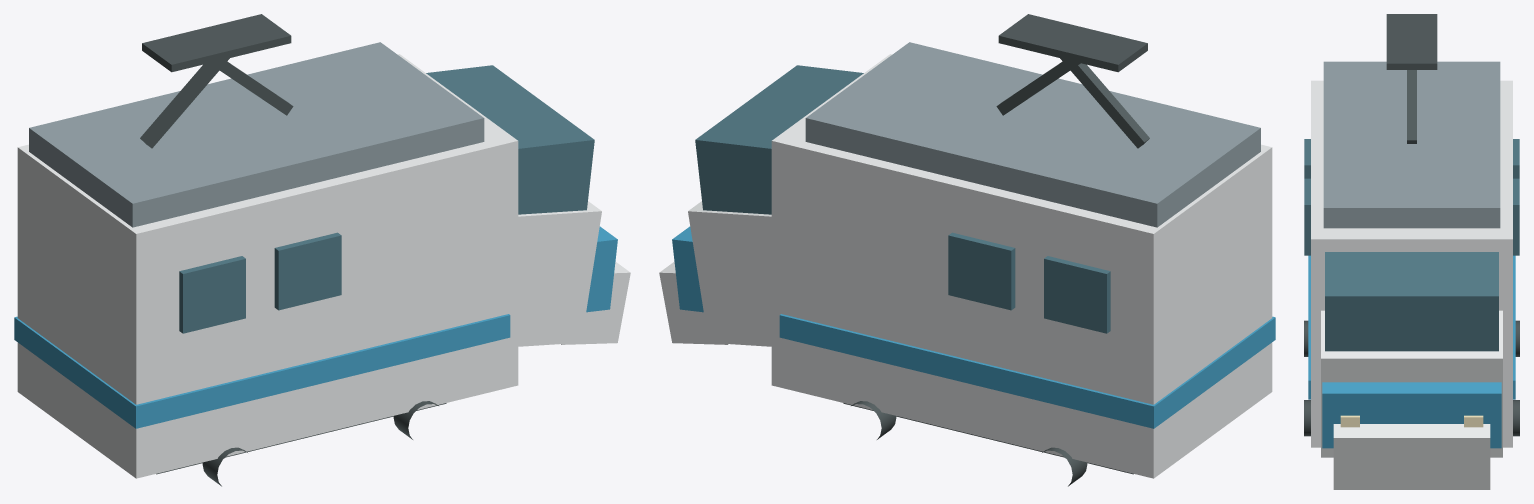
File: comfortjet.glb
3 views of the same model, side by side, from view 1: azimuth 30°, elevation 25°; view 2: azimuth 150°, elevation 25°; view 3: azimuth 270°, elevation 25° (orthographic). The views are drawn at different scales.
Parts seen in each view (by area): view 1: body_shell, roof, livery_stripe, vectron_dark_brow, cab_nose_lower, pantograph_head_-0.18, window_0.72_1_1, window_0.72_0_1, cab_nose_tip, pantograph_left_-0.18, vectron_livery_face, pantograph_right_-0.18; view 2: body_shell, roof, livery_stripe, vectron_dark_brow, cab_nose_lower, pantograph_head_-0.18, window_0.72_1_0, window_0.72_0_0, cab_nose_tip, pantograph_left_-0.18, vectron_livery_face, pantograph_right_-0.18; view 3: roof, vectron_dark_brow, body_shell, cab_nose_tip, vectron_livery_face, cab_nose_lower, pantograph_head_-0.18, livery_stripe, pantograph_right_-0.18, window_0.72_1_0, window_0.72_1_1, window_0.72_0_0 (+5 smaller).
Boxes of the visible parts, box(x1,y1,x2,y2) form: body_shell: box(17, 54, 518, 478); roof: box(29, 42, 484, 227); livery_stripe: box(14, 314, 510, 428); vectron_dark_brow: box(426, 65, 594, 214); cab_nose_lower: box(518, 201, 601, 346); pantograph_head_-0.18: box(142, 14, 291, 72); window_0.72_1_1: box(274, 232, 341, 310); window_0.72_0_1: box(179, 256, 245, 333); cab_nose_tip: box(561, 261, 630, 344); pantograph_left_-0.18: box(140, 58, 229, 148); vectron_livery_face: box(586, 226, 617, 312); pantograph_right_-0.18: box(209, 60, 293, 115); body_shell: box(771, 54, 1272, 478); roof: box(805, 42, 1260, 227); livery_stripe: box(779, 314, 1275, 428); vectron_dark_brow: box(695, 65, 863, 214); cab_nose_lower: box(688, 201, 771, 346); pantograph_head_-0.18: box(998, 14, 1147, 72); window_0.72_1_0: box(948, 232, 1015, 310); window_0.72_0_0: box(1044, 256, 1110, 333); cab_nose_tip: box(659, 261, 728, 344); pantograph_left_-0.18: box(1060, 58, 1149, 148); vectron_livery_face: box(672, 226, 703, 312); pantograph_right_-0.18: box(996, 61, 1080, 115); roof: box(1323, 61, 1500, 228); vectron_dark_brow: box(1325, 252, 1498, 351); body_shell: box(1311, 80, 1512, 447); cab_nose_tip: box(1333, 424, 1490, 489); vectron_livery_face: box(1322, 382, 1501, 448); cab_nose_lower: box(1321, 310, 1502, 457); pantograph_head_-0.18: box(1386, 14, 1437, 69); livery_stripe: box(1308, 255, 1515, 399); pantograph_right_-0.18: box(1407, 70, 1416, 143); window_0.72_1_0: box(1513, 178, 1519, 255); window_0.72_1_1: box(1304, 178, 1310, 255); window_0.72_0_0: box(1513, 139, 1519, 178).
Size of the model in its own units: 1.79 by 1.32 by 0.77.
